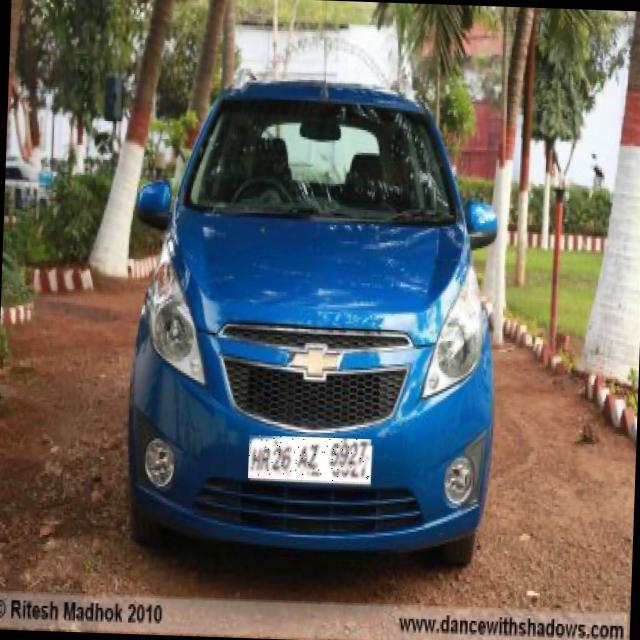Plate: (249, 436, 372, 483)
